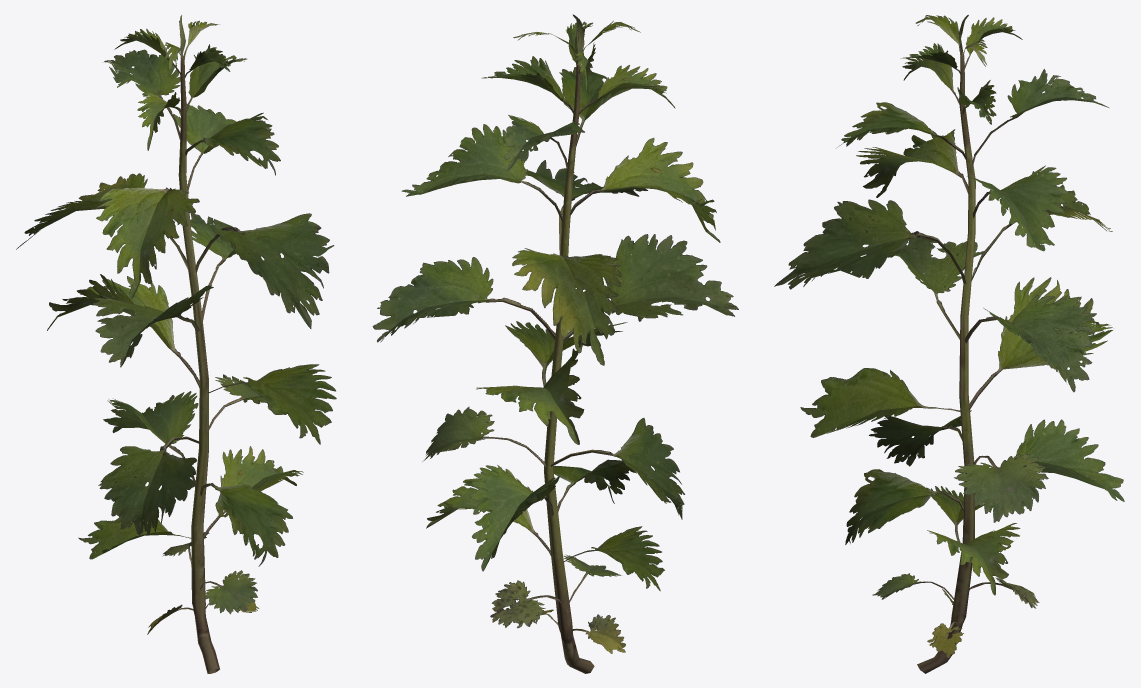
File: nettle_plant_tall_b_LOD1.glb
3 renders of one model, left to right at view 1: azimuth 30°, elevation 25°; view 2: azimuth 150°, elevation 25°; view 3: azimuth 270°, elevation 25°, orthographic. The views are drawn at different scales.
Parts seen in each view (by area): view 1: nettle_plant_tall_b_LOD1__lod0; view 2: nettle_plant_tall_b_LOD1__lod0; view 3: nettle_plant_tall_b_LOD1__lod0.
Part boxes in pixels (left/top/right/bottom): nettle_plant_tall_b_LOD1__lod0: left=16, top=15, right=336, bottom=673; nettle_plant_tall_b_LOD1__lod0: left=372, top=14, right=738, bottom=673; nettle_plant_tall_b_LOD1__lod0: left=774, top=15, right=1124, bottom=673.
Size of what is drawn, in the model's own units: 0.0842 by 0.1929 by 0.0947.
Materials: 1 (1 with a texture image).
